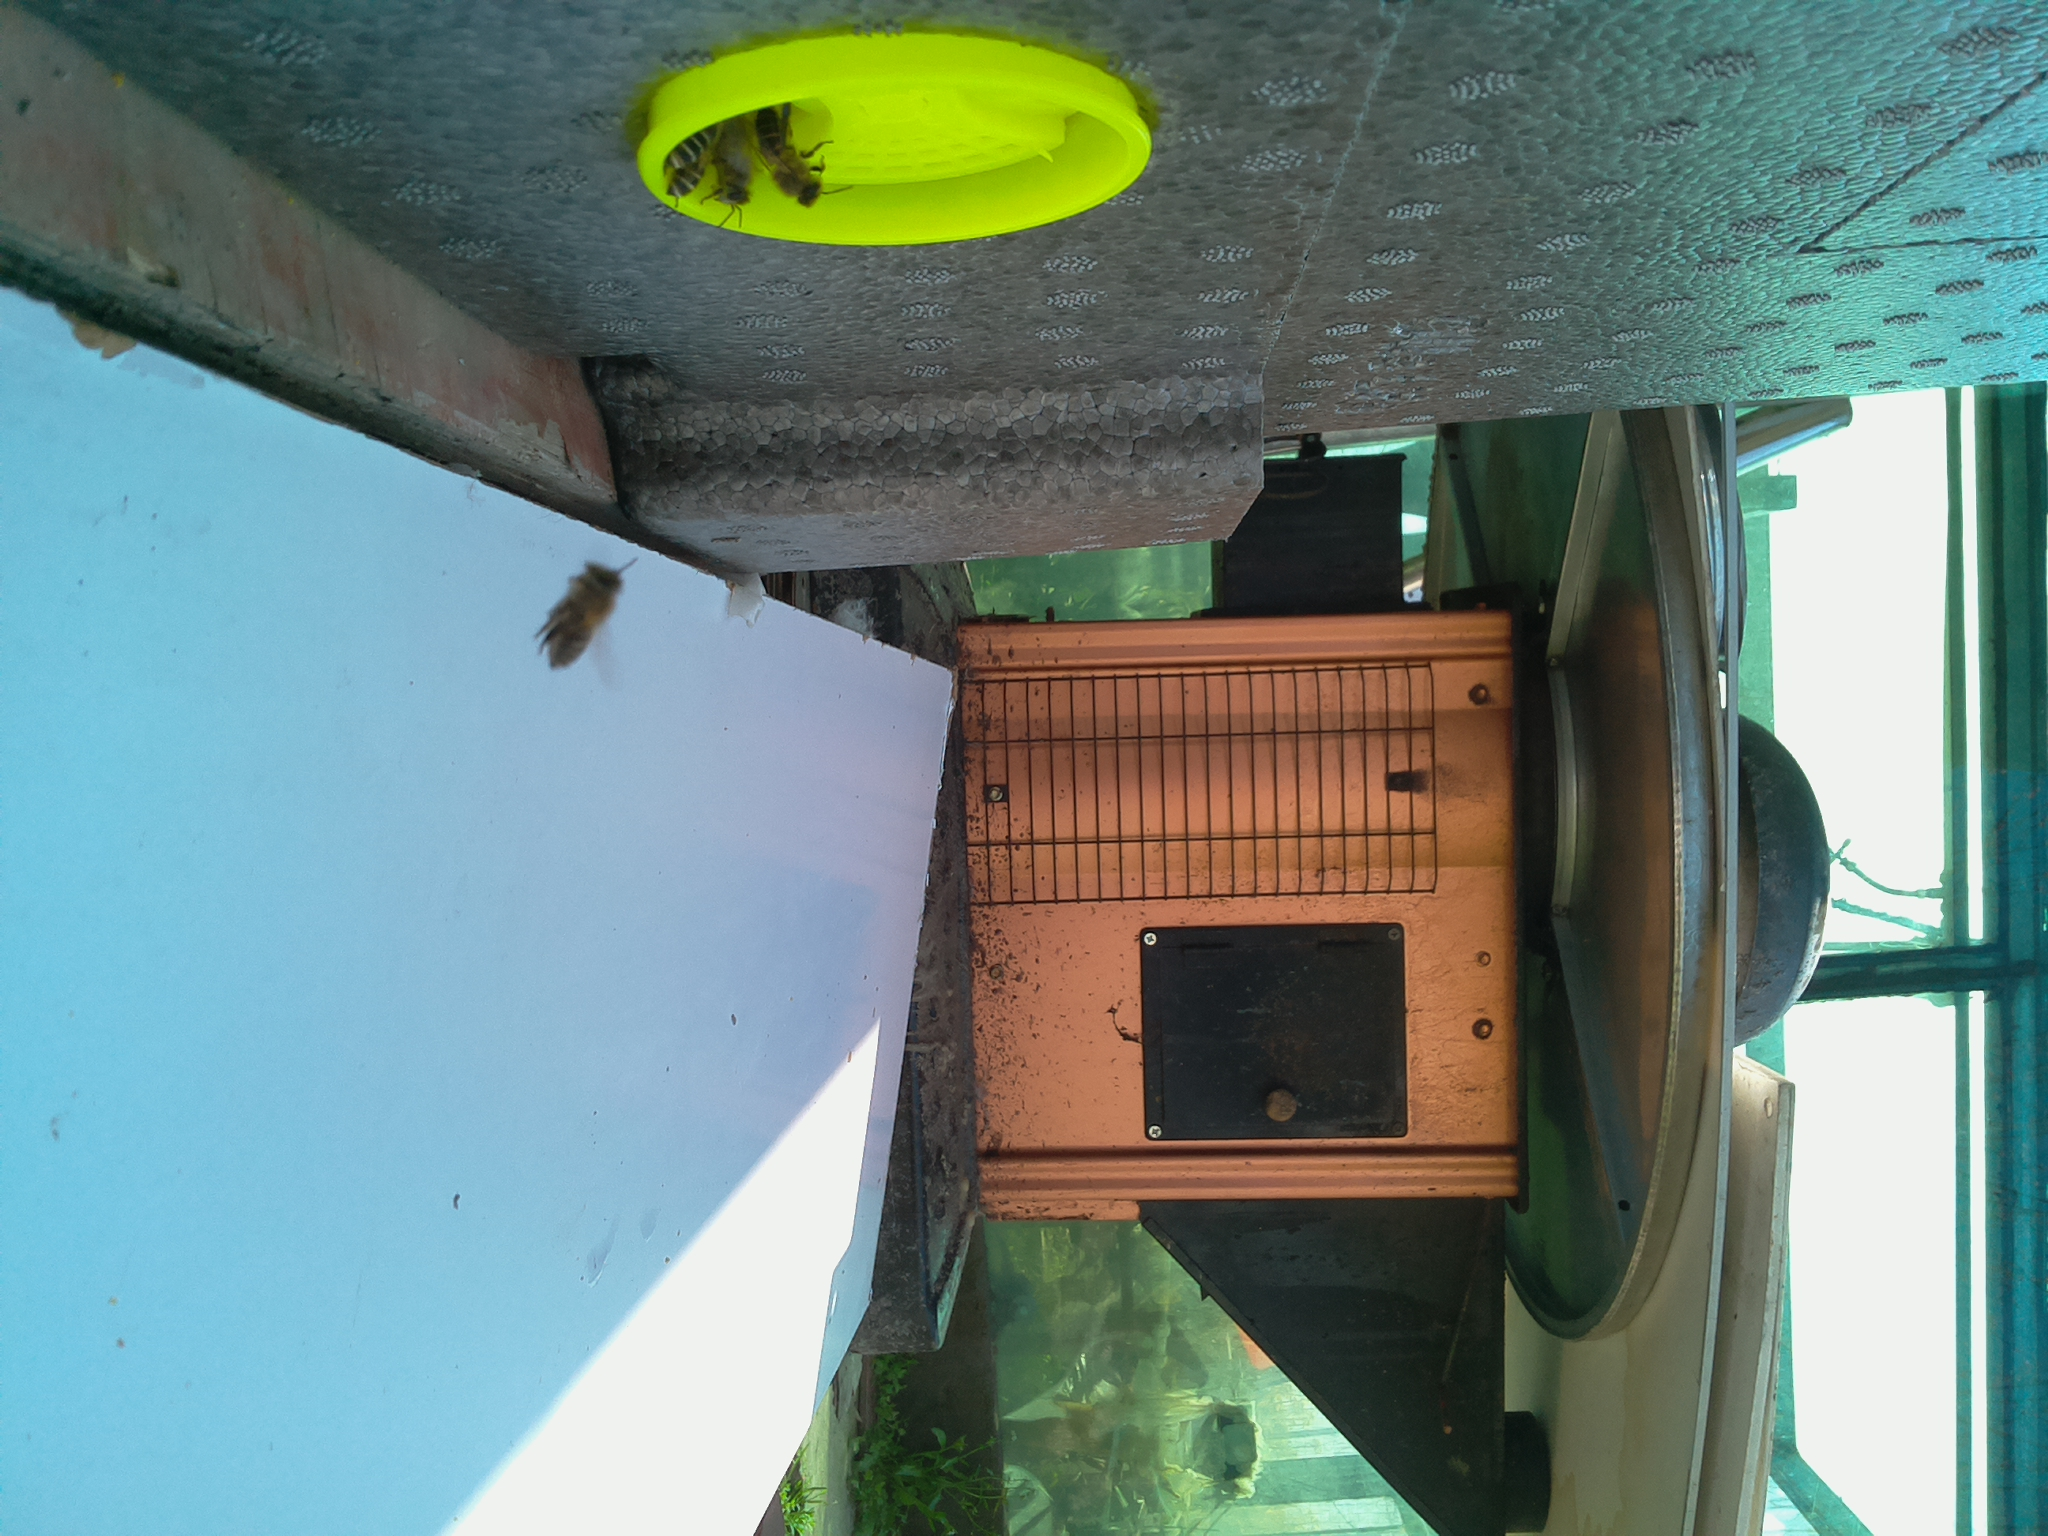bee: (541, 558, 625, 676), (756, 103, 834, 210)
